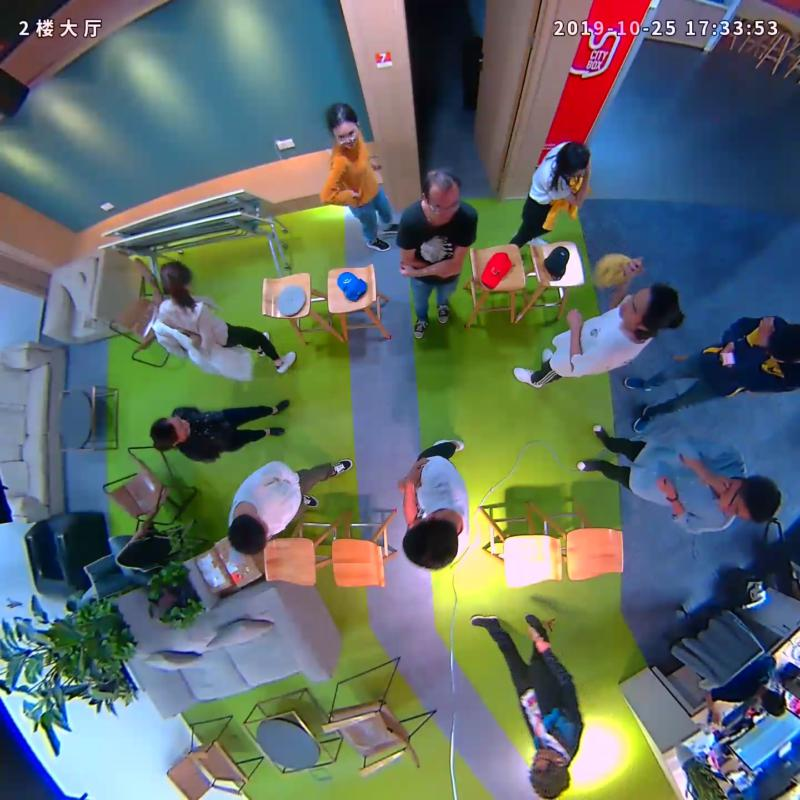head: (718, 474, 781, 525), (618, 284, 679, 336), (402, 515, 459, 569), (528, 745, 572, 800), (422, 167, 460, 226), (227, 512, 269, 555), (326, 103, 360, 150), (554, 140, 591, 177), (150, 415, 191, 446), (160, 261, 193, 294)
